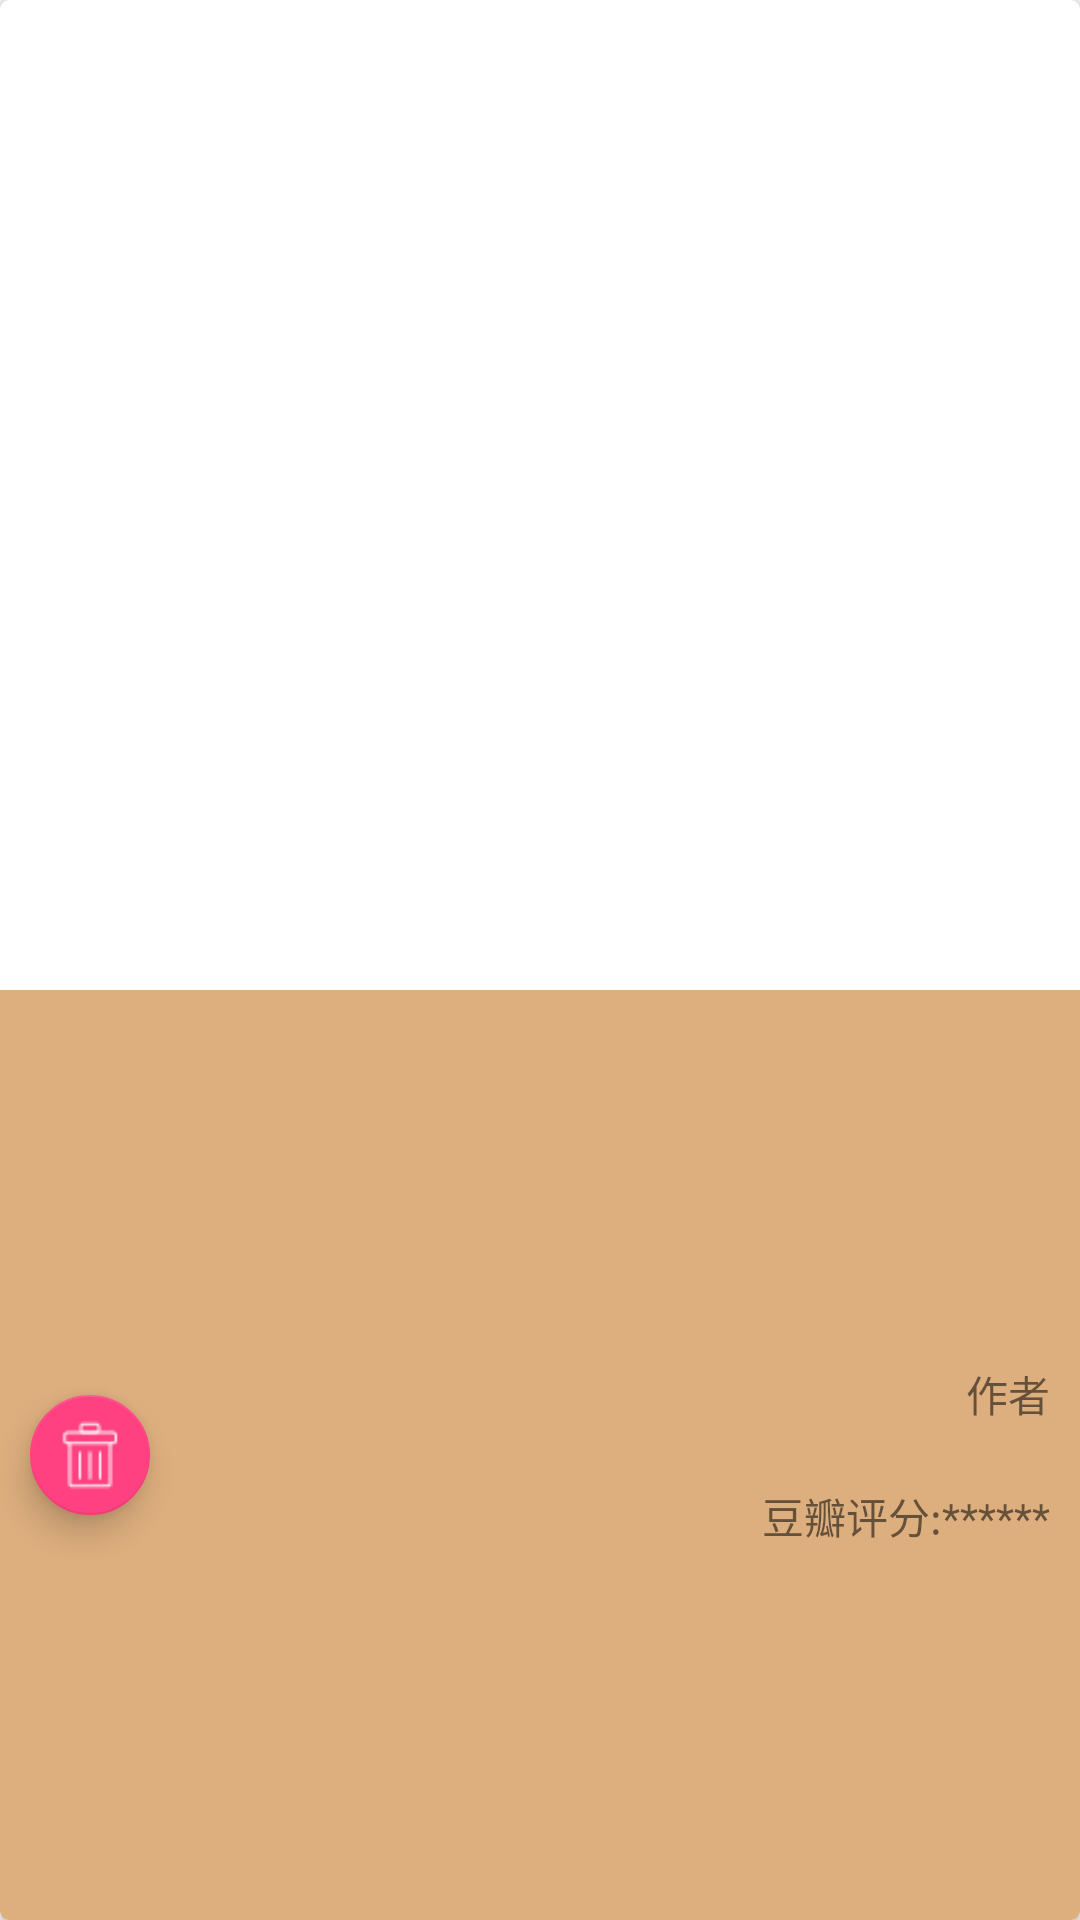

Screen size 1080w x 1920h. Icon name, then its center in pixels as [x,y]:
garbage: [90,1455]
